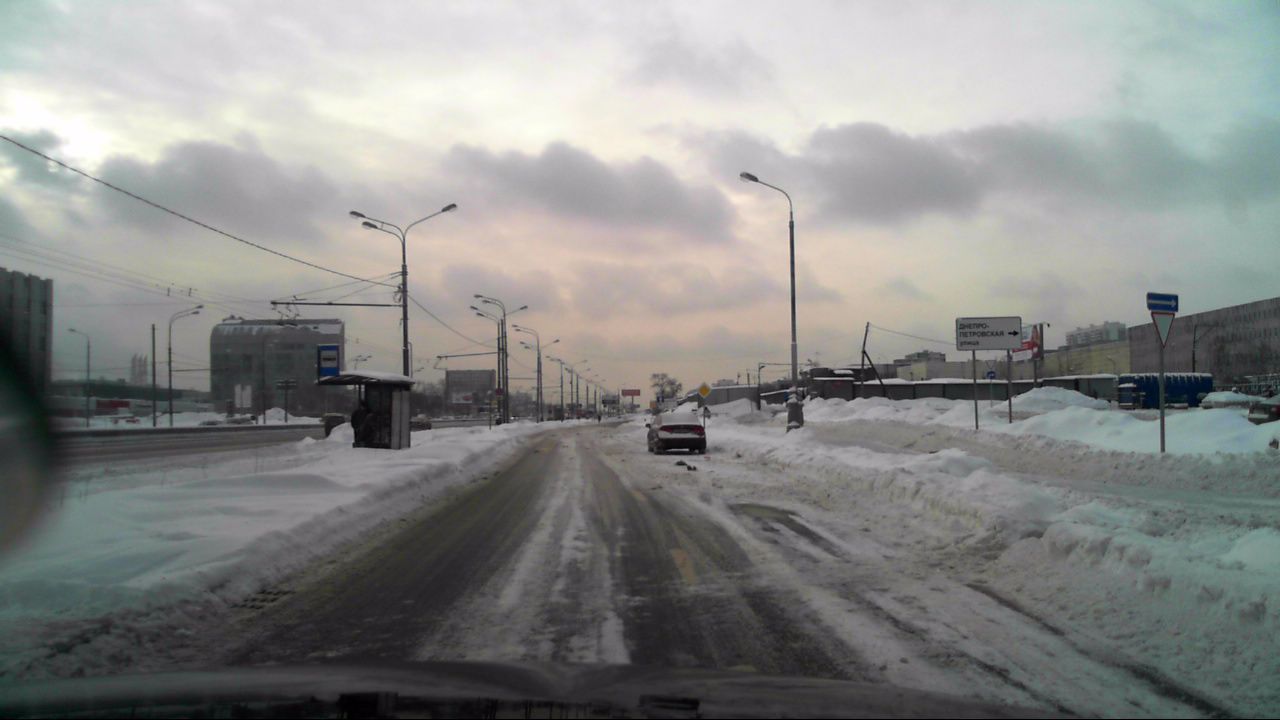One-Way Traffic: (1147, 292, 1179, 312)
